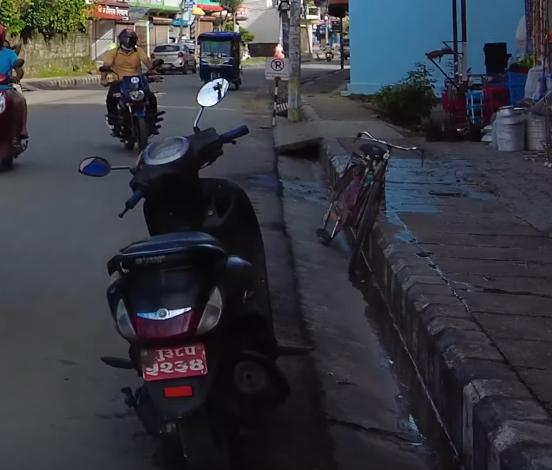bike: (102, 64, 166, 152)
car: (149, 41, 198, 72)
e-rickshaw: (194, 30, 243, 93)
scooter: (66, 71, 293, 470)
